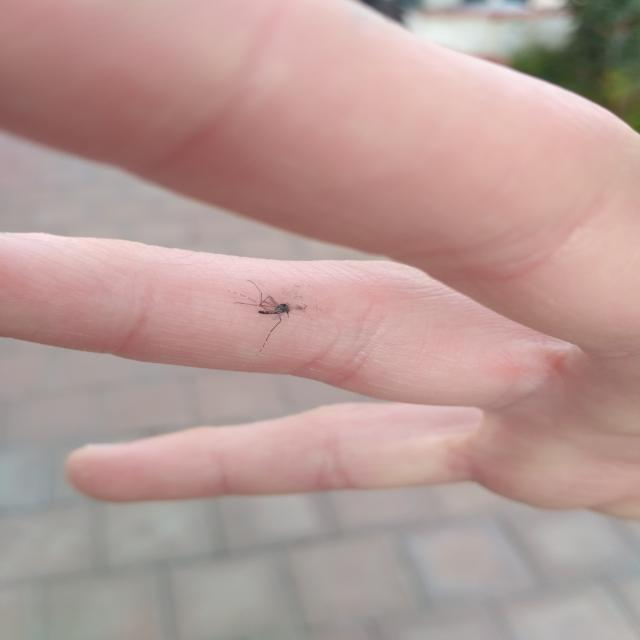albopictus: (221, 277, 312, 359)
